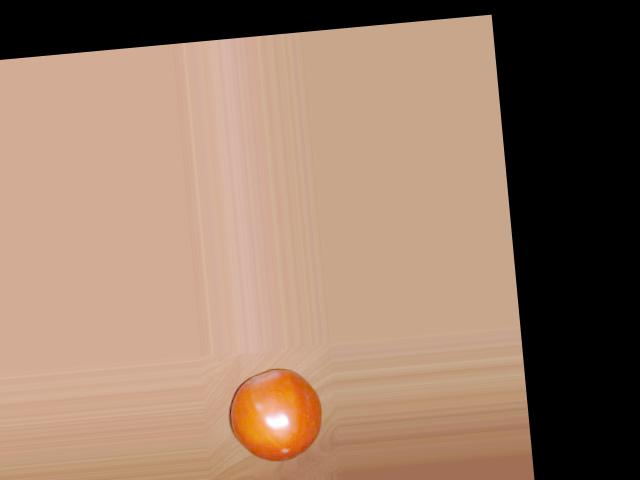tomato: (225, 365, 327, 465)
